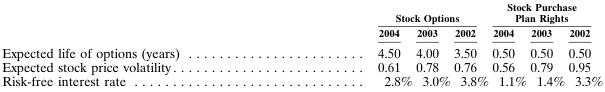table: (1, 0, 602, 88)
table column: (1, 0, 278, 88), (278, 0, 413, 88), (527, 0, 566, 88), (413, 0, 451, 88), (451, 0, 489, 88), (489, 0, 527, 88), (566, 0, 602, 88)
table column header: (1, 0, 602, 41)
table row: (1, 0, 602, 24), (1, 41, 602, 59), (1, 24, 602, 41), (1, 73, 602, 88), (1, 59, 602, 73)
table spanning cell: (278, 0, 489, 24), (489, 0, 602, 24)
